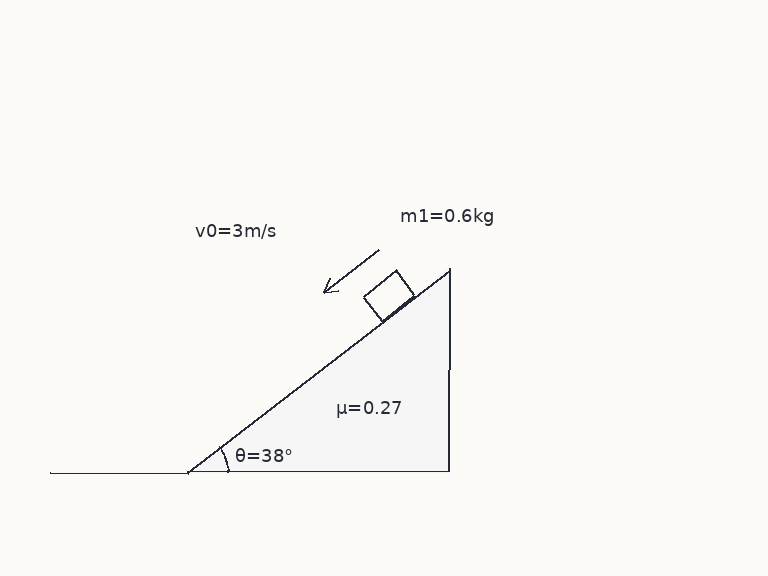block: (361, 269, 416, 323)
ramp: (186, 266, 451, 474)
